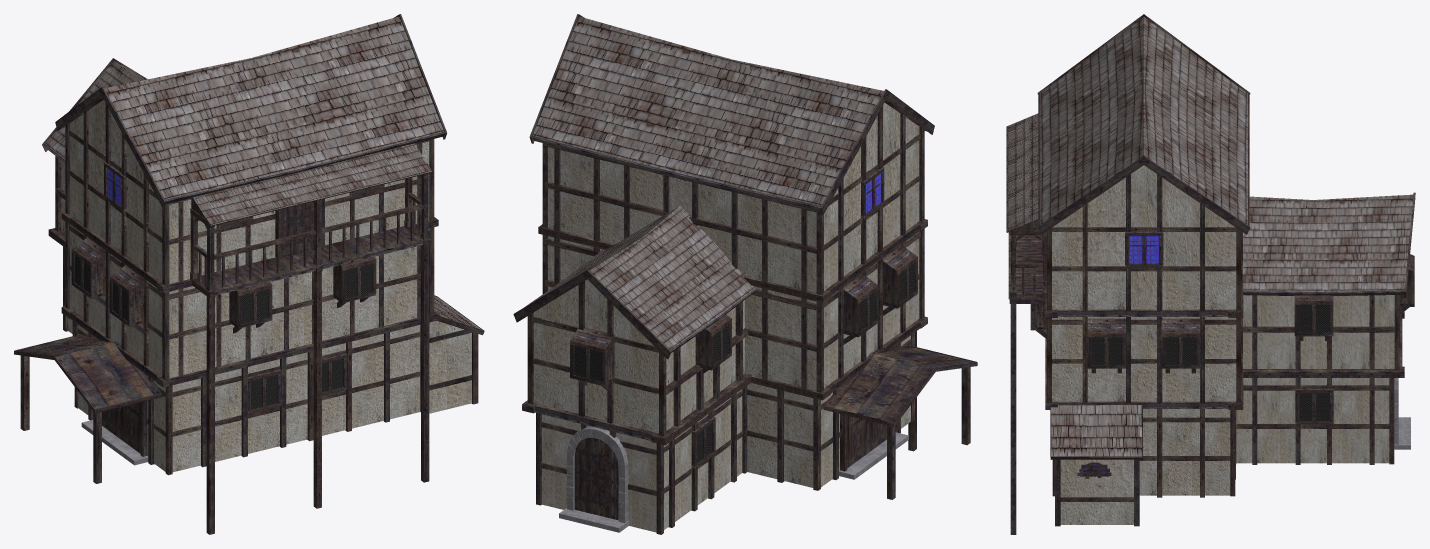
The model's file is thouse21.dae.
3 renders of one model, left to right at view 1: azimuth 30°, elevation 25°; view 2: azimuth 150°, elevation 25°; view 3: azimuth 270°, elevation 25°, orthographic. The views are drawn at different scales.
Parts seen in each view (by area): view 1: House2_Roof, House2_Level1, House2_Level2, House2_Level3, Balcony1Roof, House2_Level3_Beams, House2_Level1_Beams, House2_Level2_Beams, Balcony1, Balcony1Stilts, Roof1Outer, BuildingExtensions4 (+22 smaller); view 2: House2_Roof, House2_Level3, House5_Roof, House5_Level2, House2_Level3_Beams, House2_Level2, House5_Level1, House2_Level1, House2_Level2_Beams, House5_Level2_Beams, Roof1Outer, House5_Level1_Beams (+20 smaller); view 3: House2_Roof, House2_Level3, House5_Roof, House2_Level2, House5_Level1, House5_Level2, House2_Level1, House2_Level3_Beams, BuildingExtensions4Roof, BuildingExtensions4, House2_Level2_Beams, House2_Roof_Frame (+24 smaller).
Boxes of the visible parts, bbox=[...] form: House2_Roof: bbox=[104, 16, 443, 199]; House2_Level1: bbox=[78, 325, 420, 472]; House2_Level2: bbox=[70, 225, 429, 378]; House2_Level3: bbox=[70, 100, 429, 283]; Balcony1Roof: bbox=[193, 143, 432, 225]; House2_Level3_Beams: bbox=[65, 103, 434, 285]; House2_Level1_Beams: bbox=[74, 322, 420, 475]; House2_Level2_Beams: bbox=[65, 222, 434, 379]; Balcony1: bbox=[190, 172, 431, 293]; Balcony1Stilts: bbox=[206, 245, 429, 534]; Roof1Outer: bbox=[16, 335, 161, 409]; BuildingExtensions4: bbox=[429, 321, 471, 413]; House2_Roof: bbox=[533, 16, 883, 205]; House2_Level3: bbox=[548, 102, 919, 293]; House5_Roof: bbox=[541, 206, 755, 350]; House5_Level2: bbox=[534, 279, 744, 433]; House2_Level3_Beams: bbox=[542, 106, 924, 294]; House2_Level2: bbox=[548, 232, 919, 390]; House5_Level1: bbox=[542, 389, 742, 532]; House2_Level1: bbox=[747, 335, 910, 487]; House2_Level2_Beams: bbox=[542, 229, 924, 392]; House5_Level2_Beams: bbox=[527, 281, 748, 435]; Roof1Outer: bbox=[825, 346, 974, 422]; House5_Level1_Beams: bbox=[536, 386, 747, 534]; House2_Roof: bbox=[1040, 17, 1247, 224]; House2_Level3: bbox=[1052, 165, 1236, 309]; House5_Roof: bbox=[1242, 194, 1413, 291]; House2_Level2: bbox=[1052, 317, 1236, 401]; House5_Level1: bbox=[1236, 378, 1389, 463]; House5_Level2: bbox=[1242, 295, 1394, 368]; House2_Level1: bbox=[1139, 409, 1230, 495]; House2_Level3_Beams: bbox=[1047, 174, 1242, 310]; BuildingExtensions4Roof: bbox=[1051, 405, 1141, 457]; BuildingExtensions4: bbox=[1060, 459, 1133, 524]; House2_Level2_Beams: bbox=[1047, 317, 1242, 402]; House2_Roof_Frame: bbox=[1037, 14, 1250, 234].
Bounding box in the file's own units: 11.21 × 10.65 × 11.42.
Materials: 31 (31 with a texture image).
